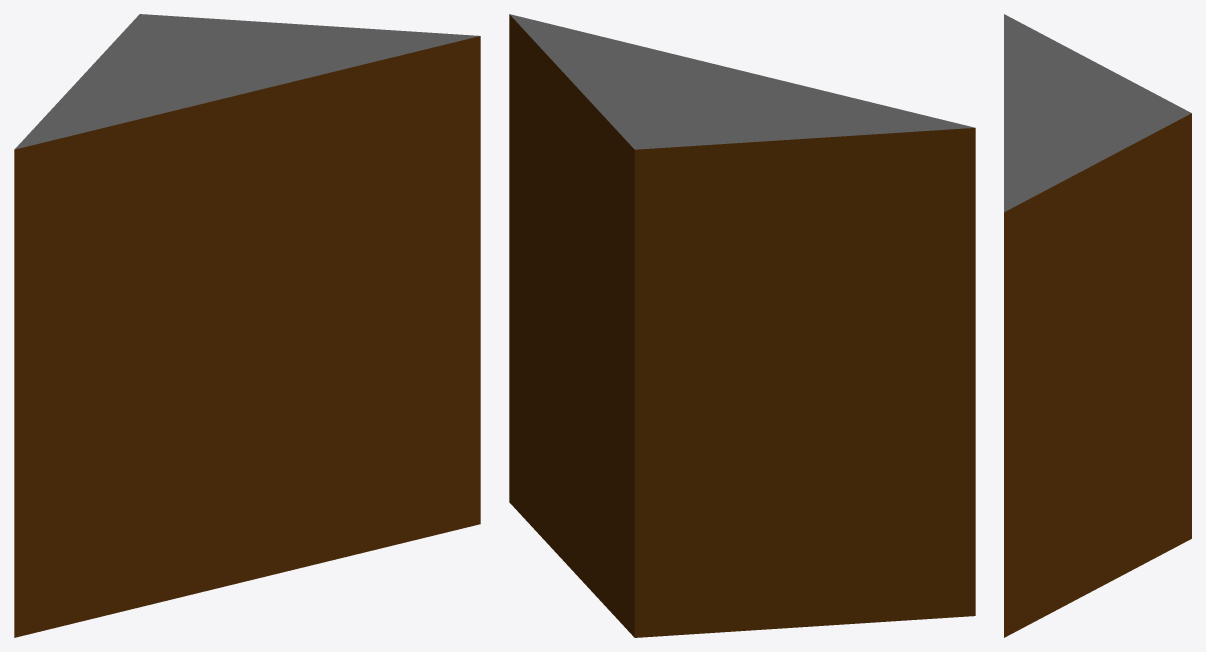
The model's file is HouseTop.fbx.
The picture shows the model from 3 angles, left to right: view 1: azimuth 30°, elevation 25°; view 2: azimuth 150°, elevation 25°; view 3: azimuth 270°, elevation 25°; orthographic projection. The views are drawn at different scales.
Parts seen in each view (by area): view 1: HouseTop; view 2: HouseTop; view 3: HouseTop.
Part boxes in pixels (left/top/right/bottom): HouseTop: left=14, top=14, right=480, bottom=637; HouseTop: left=509, top=14, right=975, bottom=637; HouseTop: left=1004, top=14, right=1191, bottom=637.
Size of the model in its own units: 50000 by 50000 by 20000.
